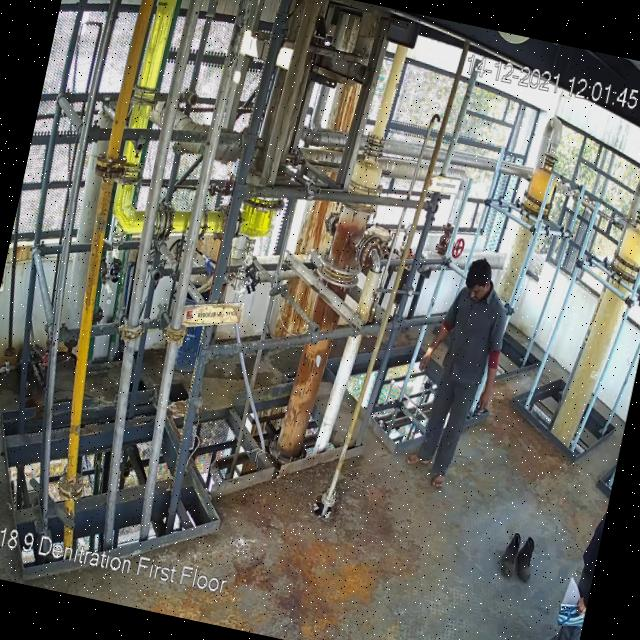boots: (496, 528, 528, 581), (514, 535, 540, 581)
no-boots: (427, 468, 451, 492), (403, 449, 430, 468)
